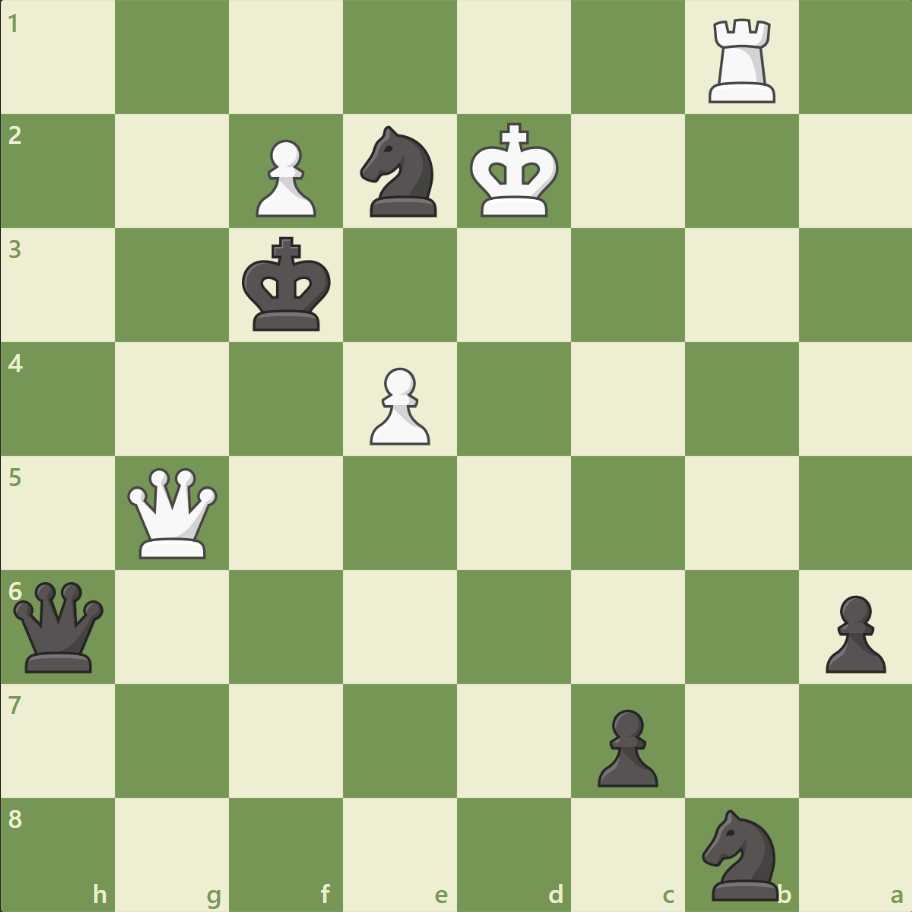K: (465, 117, 565, 225)
P: (247, 132, 322, 223), (361, 359, 435, 450)
Q: (124, 463, 223, 562)
R: (700, 12, 783, 109)
k: (238, 231, 338, 339)
n: (351, 121, 449, 223), (692, 802, 789, 904)
p: (588, 700, 662, 791), (815, 586, 889, 677)
q: (10, 576, 109, 676)
